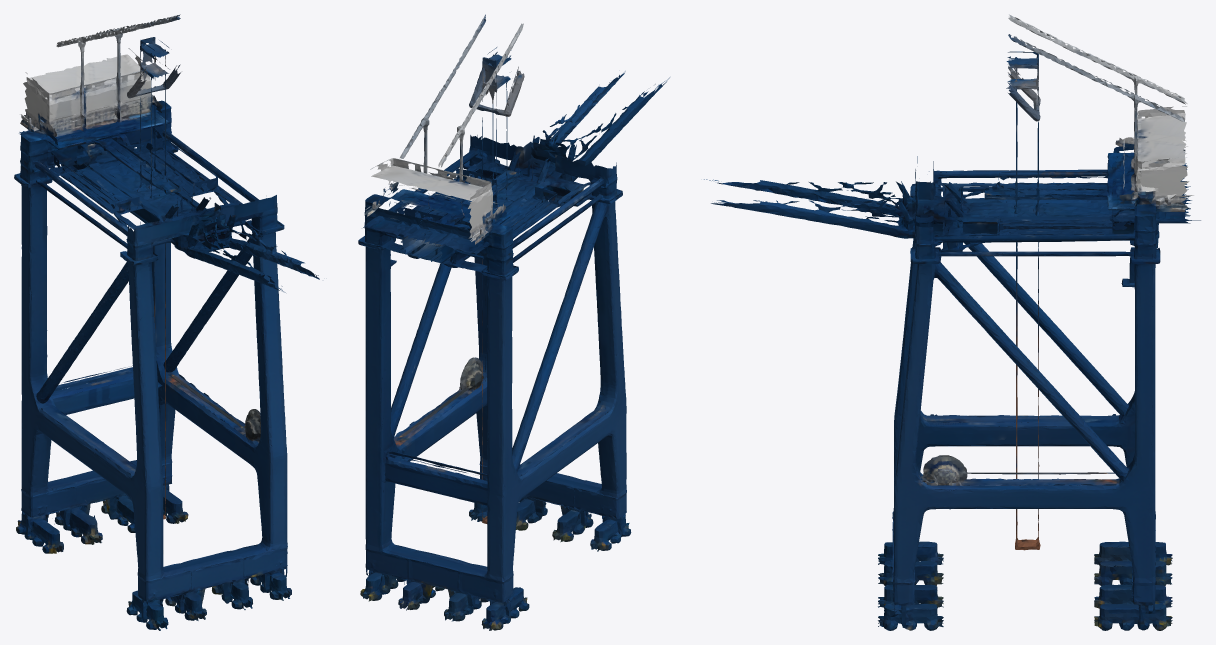
File: tower.glb
3 renders of one model, left to right at view 1: azimuth 30°, elevation 25°; view 2: azimuth 150°, elevation 25°; view 3: azimuth 270°, elevation 25°, orthographic. The views are drawn at different scales.
Parts seen in each view (by area): view 1: Node; view 2: Node; view 3: Node.
Boxes of the visible parts, bbox=[...] form: Node: bbox=[14, 14, 319, 630]; Node: bbox=[358, 14, 669, 630]; Node: bbox=[704, 14, 1200, 630].
Size of the model in its own units: 8.41 by 29.22 by 23.13.
Materials: 1 (1 with a texture image).
